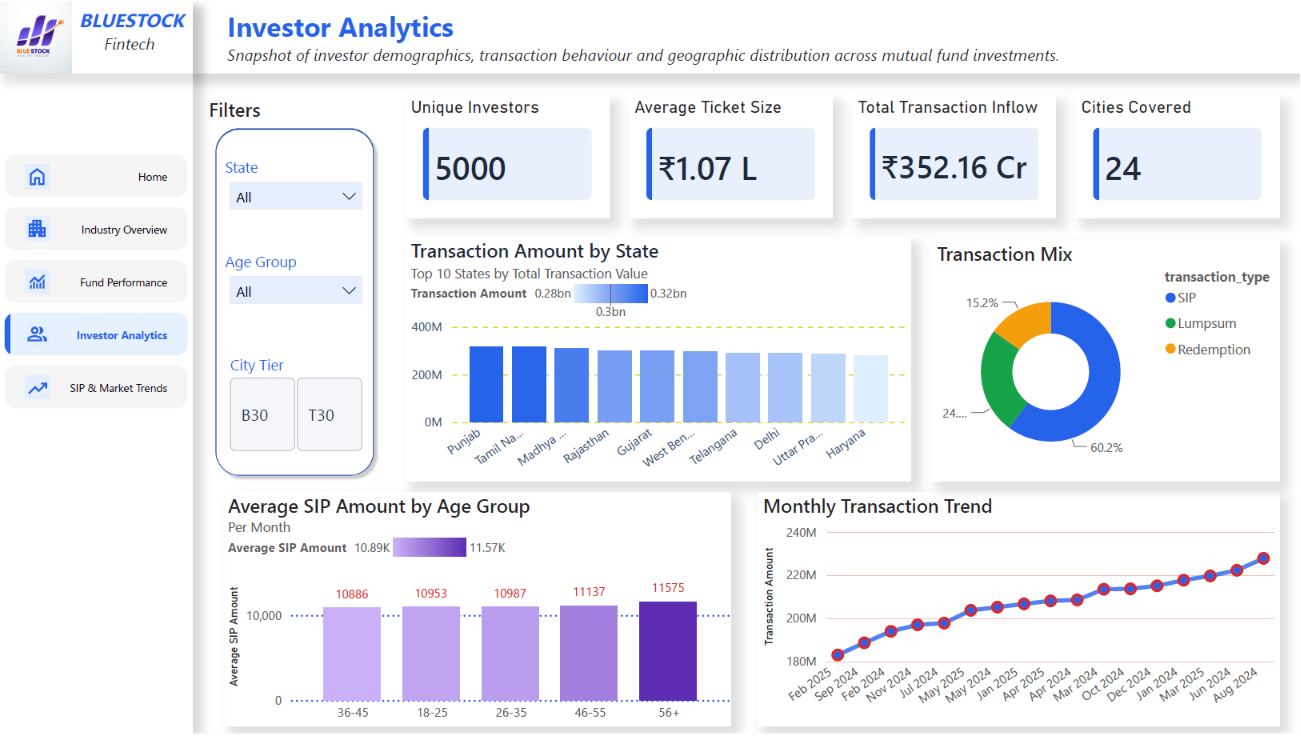

The page's visual inventory and layout, read from the dashboard file:
{"tool":"powerbi","page":{"name":" Investor Analytics","canvas":[1280,720],"ordinal":3},"visuals":[{"type":"shape","box":[0,0,1280,70],"z":0},{"type":"pageNavigator","box":[5,150,180,250],"z":0,"group":"g1"},{"type":"shape","box":[0,0,190,720],"z":1000},{"type":"image","box":[25,160,24,24],"z":1000,"group":"g1"},{"type":"shape","box":[0,0,190,70],"z":2000},{"type":"image","box":[25,263,24,24],"z":2000,"group":"g1"},{"type":"clusteredColumnChart","title":"Transaction Amount by State","fields":{"Category":["Fact_Transactions.state"],"Y":["Measure_Table.Transaction Amount"]},"box":[400,231.7,496.7,240],"z":3000},{"type":"image","box":[25,367.5,23.8,23.8],"z":3000,"group":"g1"},{"type":"image","box":[25,315,23.8,23.8],"z":4000,"group":"g1"},{"type":"lineChart","title":"Monthly Transaction Trend ","fields":{"Y":["Measure_Table.Transaction Amount"],"Category":["Dim_Date.Year Month"]},"box":[746.7,483.3,513.3,230],"z":4000},{"type":"image","box":[25,211.2,23.8,23.8],"z":5000,"group":"g1"},{"type":"clusteredColumnChart","title":"Average SIP Amount by Age Group","fields":{"Category":["Fact_Transactions.age_group"],"Y":["Measure_Table.Average SIP Amount"]},"box":[221.7,483.3,498.3,230],"z":5000},{"type":"group","id":"g1","title":"Group 1","box":[5,150,180,250],"z":6000},{"type":"textbox","box":[190,0,1090,70],"z":7000},{"type":"cardVisual","title":"Average Ticket Size","fields":{"Data":["Measure_Table.Average Ticket Size Display"]},"box":[620,92.5,200,120],"z":8000},{"type":"cardVisual","title":"Total Transaction Inflow","fields":{"Data":["Measure_Table.Total Inflow Display"]},"box":[840,92.5,200,120],"z":9000},{"type":"cardVisual","title":"Cities Covered","fields":{"Data":["Measure_Table.Cities Covered"]},"box":[1060,92.5,200,120],"z":10000},{"type":"shape","title":"Filters","box":[206.2,92.5,170,380],"z":11000},{"type":"slicer","title":"Age Group","fields":{"Values":["Fact_Transactions.age_group"]},"box":[216.7,245,150,66.7],"z":12000},{"type":"advancedSlicerVisual","title":"City Tier","fields":{"Values":["Fact_Transactions.city_tier"]},"box":[221.7,346.7,141.7,100],"z":13000},{"type":"cardVisual","title":"Unique Investors","fields":{"Data":["Measure_Table.Unique Investors"]},"box":[400,92.5,200,120],"z":14000},{"type":"textbox","box":[48.8,0,141.2,70],"z":15000},{"type":"image","box":[0,0,71.2,70],"z":16000},{"type":"slicer","title":"State","fields":{"Values":["Fact_Transactions.state"]},"box":[216.7,151.7,150,66.7],"z":17000},{"type":"donutChart","title":"Transaction Mix","fields":{"Y":["Measure_Table.Transaction Count"],"Category":["Fact_Transactions.transaction_type"]},"box":[918.3,235,341.7,236.7],"z":18000}]}

Visuals, with their boxes on the page's 1280x720 design canvas (x1, y1, x2, y2). These are canvas units, not pixel positions in the 1301x737 screenshot, which may show the page scaled, cropped or inside an application window:
shape: bbox=(0, 0, 1280, 70)
pageNavigator: bbox=(5, 150, 185, 400)
shape: bbox=(0, 0, 190, 720)
image: bbox=(25, 160, 49, 184)
shape: bbox=(0, 0, 190, 70)
image: bbox=(25, 263, 49, 287)
"Transaction Amount by State" clusteredColumnChart: bbox=(400, 232, 897, 472)
image: bbox=(25, 368, 49, 391)
image: bbox=(25, 315, 49, 339)
"Monthly Transaction Trend " lineChart: bbox=(747, 483, 1260, 713)
image: bbox=(25, 211, 49, 235)
"Average SIP Amount by Age Group" clusteredColumnChart: bbox=(222, 483, 720, 713)
"Group 1" group: bbox=(5, 150, 185, 400)
textbox: bbox=(190, 0, 1280, 70)
"Average Ticket Size" cardVisual: bbox=(620, 92, 820, 212)
"Total Transaction Inflow" cardVisual: bbox=(840, 92, 1040, 212)
"Cities Covered" cardVisual: bbox=(1060, 92, 1260, 212)
"Filters" shape: bbox=(206, 92, 376, 472)
"Age Group" slicer: bbox=(217, 245, 367, 312)
"City Tier" advancedSlicerVisual: bbox=(222, 347, 363, 447)
"Unique Investors" cardVisual: bbox=(400, 92, 600, 212)
textbox: bbox=(49, 0, 190, 70)
image: bbox=(0, 0, 71, 70)
"State" slicer: bbox=(217, 152, 367, 218)
"Transaction Mix" donutChart: bbox=(918, 235, 1260, 472)
